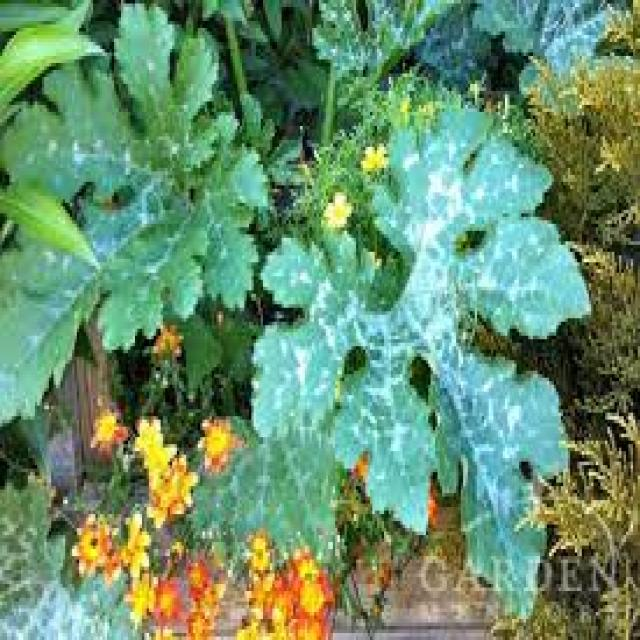powdery-mildew: (391, 162, 469, 358)
